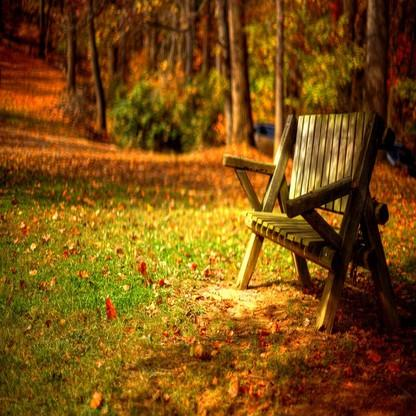obstacle: (219, 101, 398, 343)
